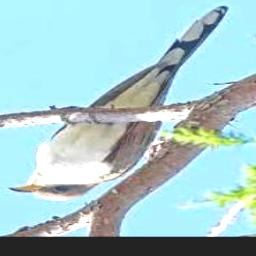Cuckoo: (11, 6, 230, 201)
